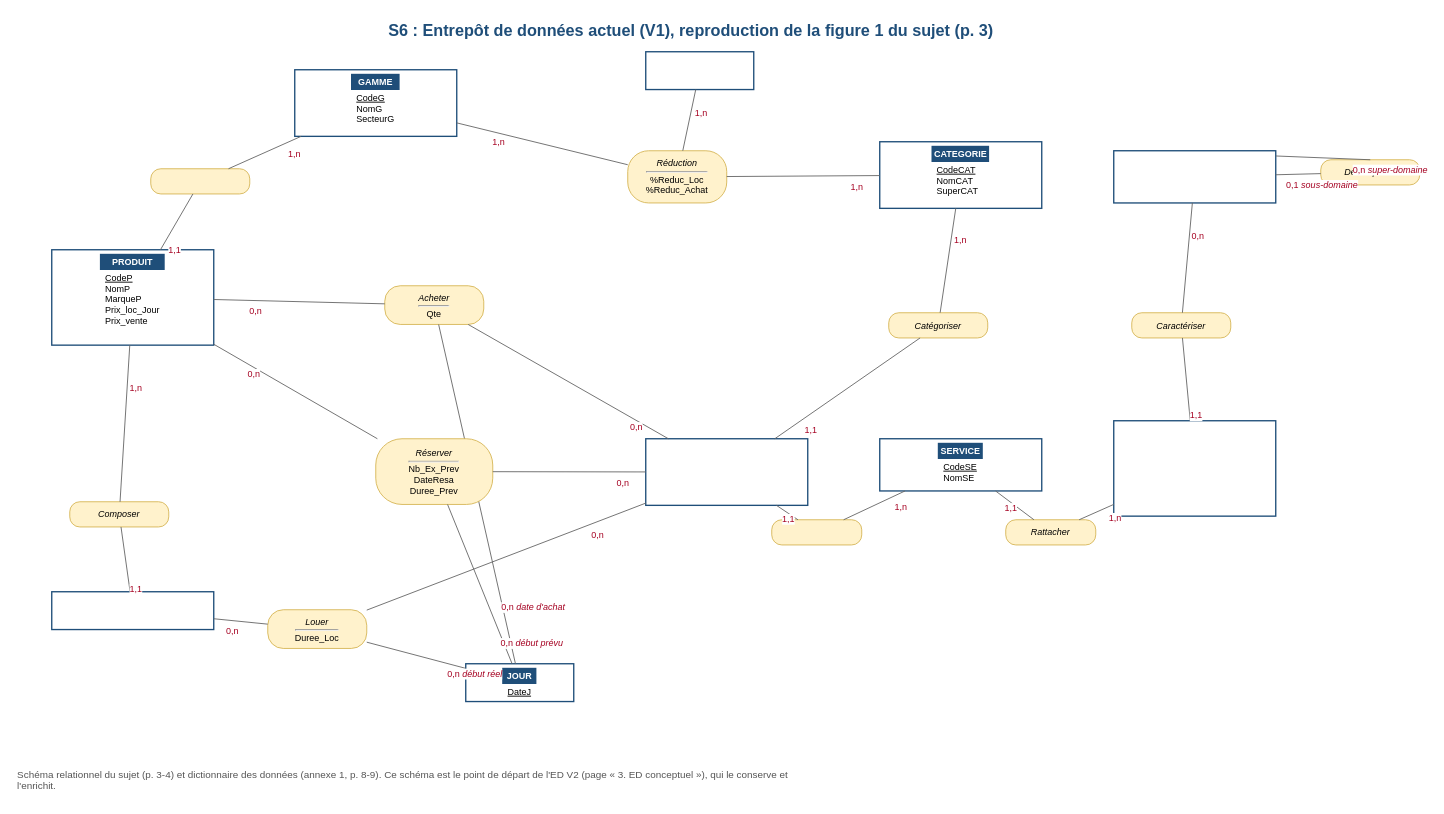
This 1444x814 diagram has some shape labels left out. The shapes that lost their labels are listed below. From the top down, each one's centre as x and y in pixels, then its label:
(x=699, y=70): ANNEE Annee
(x=200, y=181): Appartenir
(x=1194, y=176): DOMAINE CodeDO NomDO
(x=726, y=472): EMPLOYE CodeE NomE PrenomE
(x=1194, y=468): SOCIETE CodeSOC NomSOC VilleSOC DepartementSOC RegionSOC
(x=816, y=532): Affecter
(x=132, y=610): EXEMPLAIRE CodeEX
